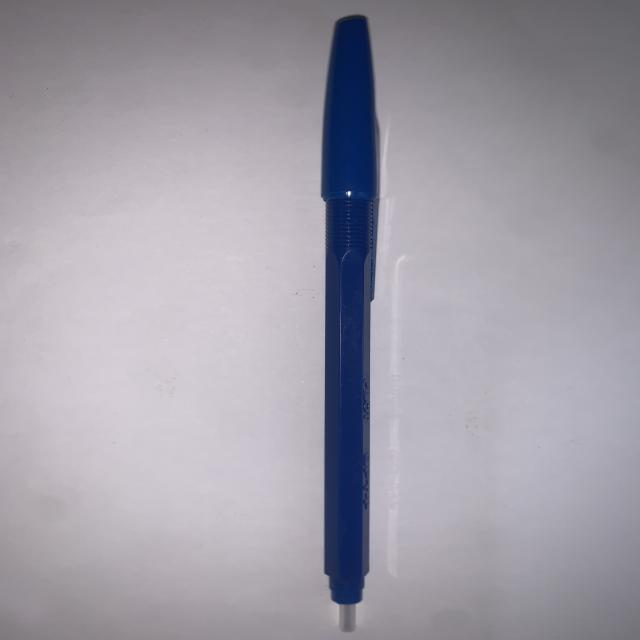Pulpen: (296, 13, 394, 634)
